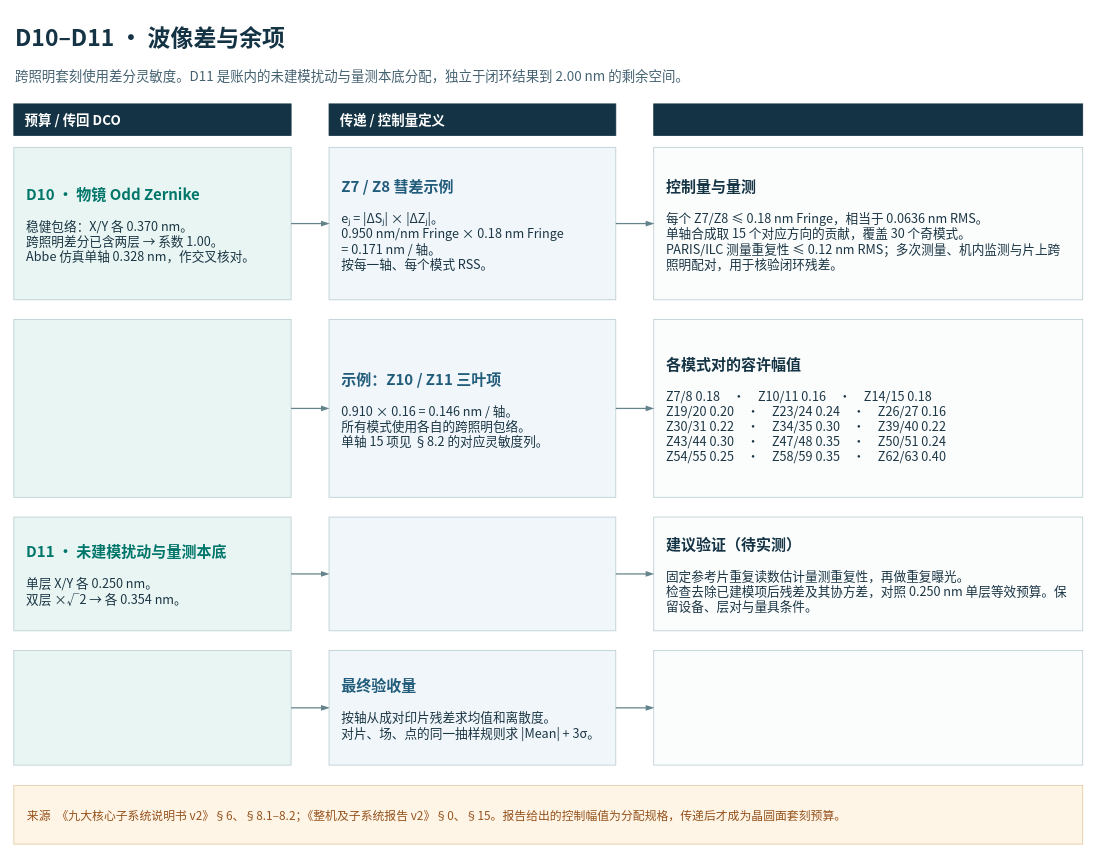
This 1097x858 diagram has some shape labels left out. Here are the shapes that lost their labels. From the top down, the box of each, then its label:
(653, 103, 1083, 135): 子系统验收 / 指标
(13, 319, 291, 497): D10 · 30 项模式限值 右表按 X/Y 成对列出。 单位均为 nm Fringe，限值为绝对值。
(328, 516, 616, 631): 合并分配 仓库为两类来源给出一个合并上限。 单独贡献需要量具与印片的重复数据辨识。
(13, 650, 291, 765): 系统偏置 · |Mean| 每一轴预留 0.300 nm。 对两层随机合成值作线性加法。
(653, 650, 1083, 765): 同机同台闭环 两轴分别对照 ≤ 2.00 nm。 用实测协方差检查 D1–D11 的 RSS 假设；重新估计共享基线、热变化及层间相关对合成的影响。
